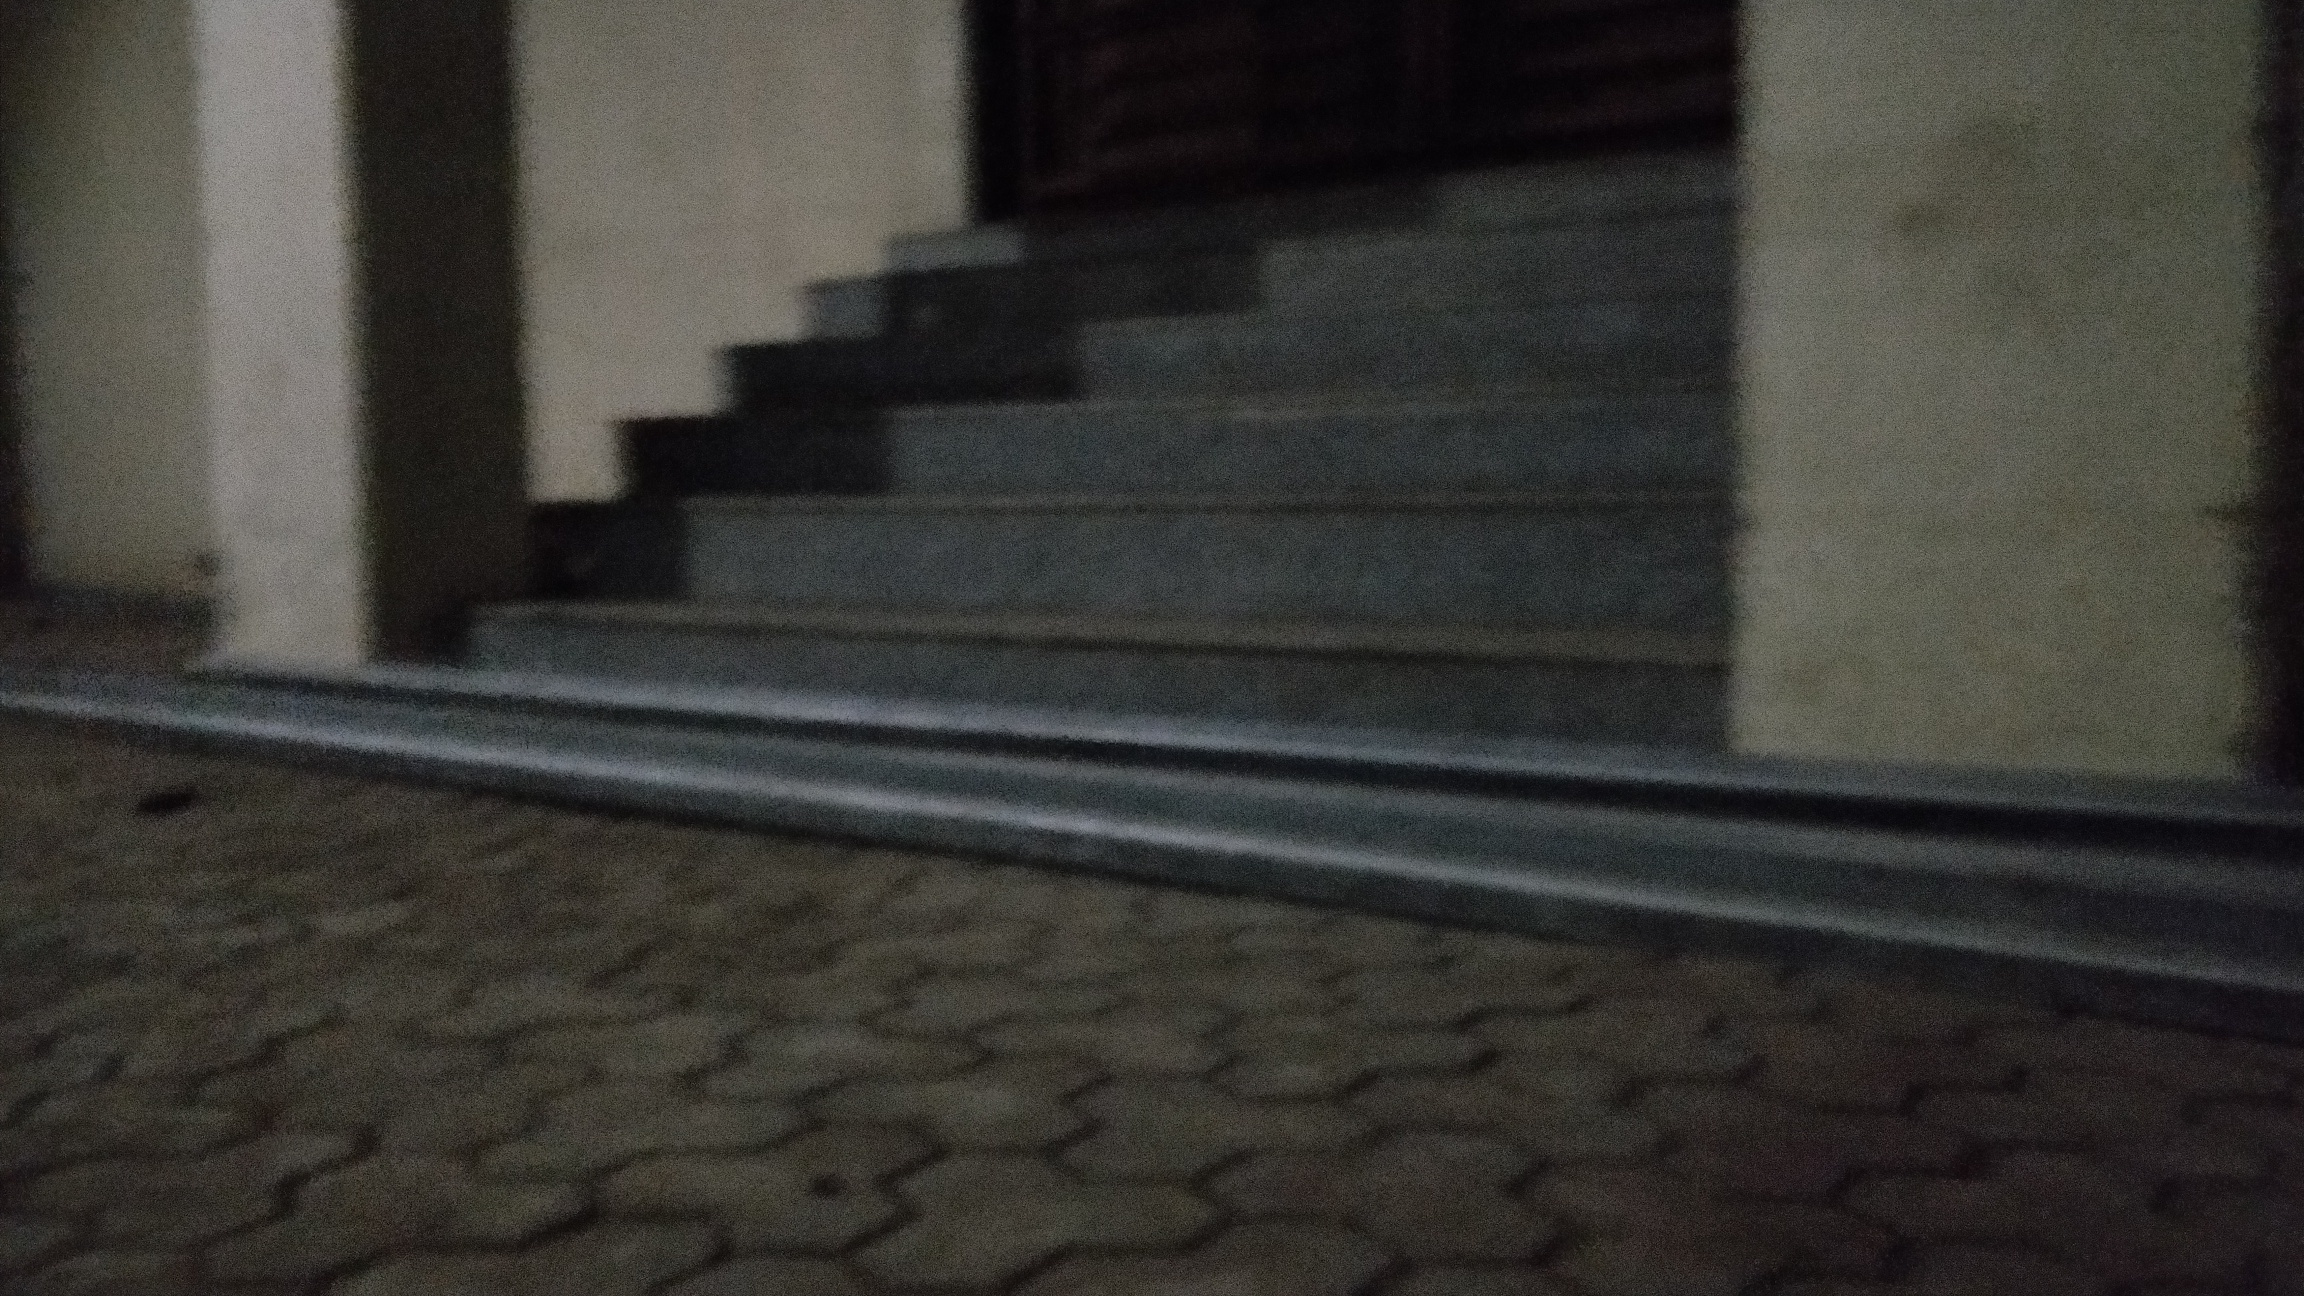stairs_up: (494, 63, 1730, 712)
